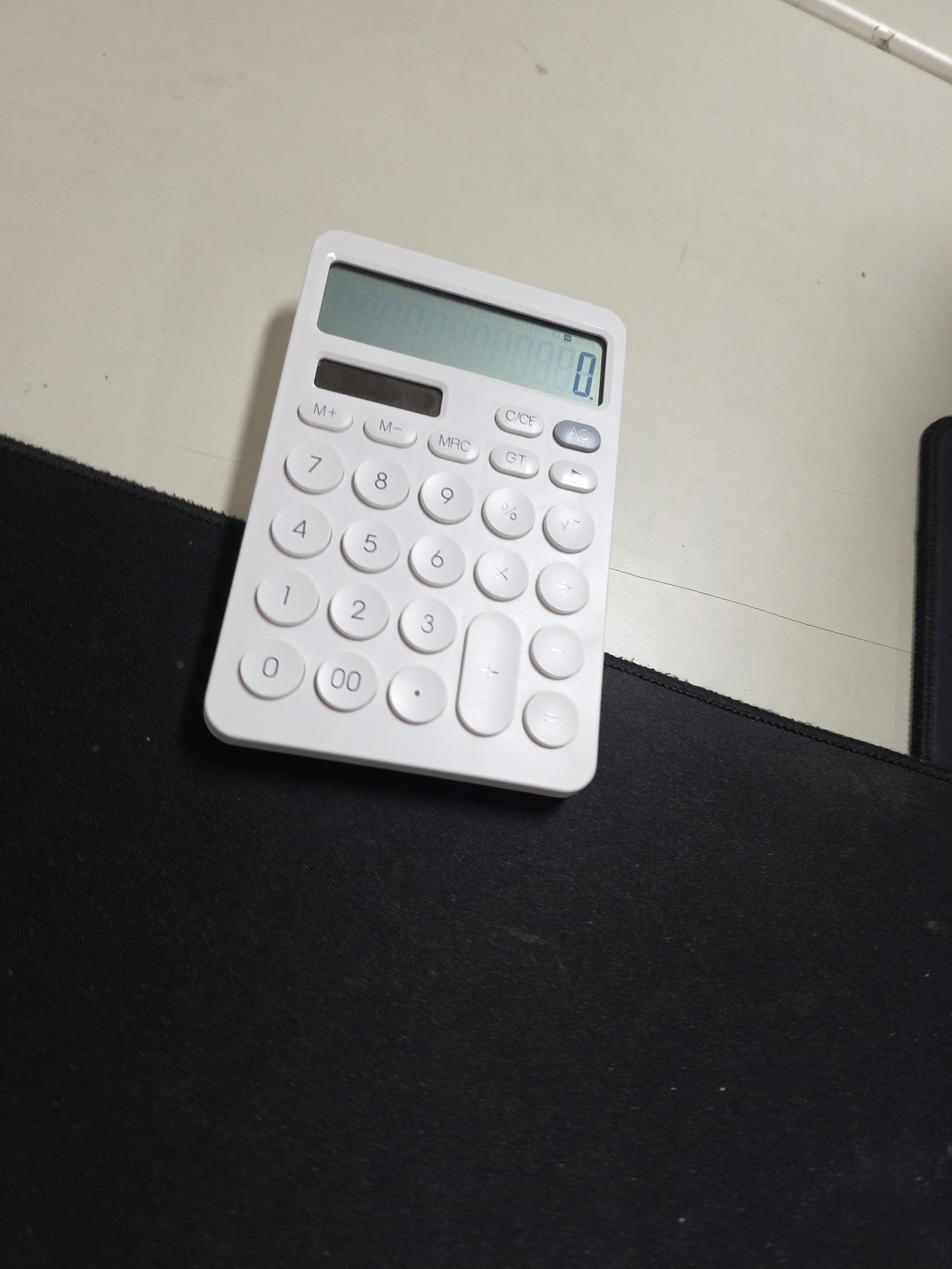calculator: (202, 229, 628, 798)
